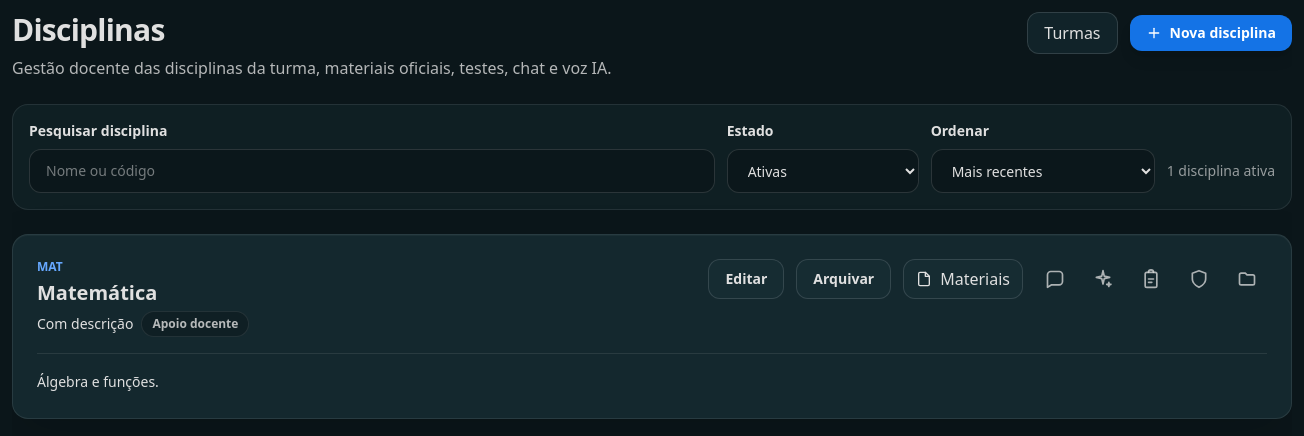
Scenario: TeacherSubjectsPage › separa disciplinas ativas do arquivo
Expected: the heading "Matemática" is shown, [37, 279, 157, 306]
Expected: the text "Matemática histórica" is not shown
Step 1. Select "Arquivo" in the dropdown labelled "Estado" → (823, 171), box [727, 149, 919, 193]
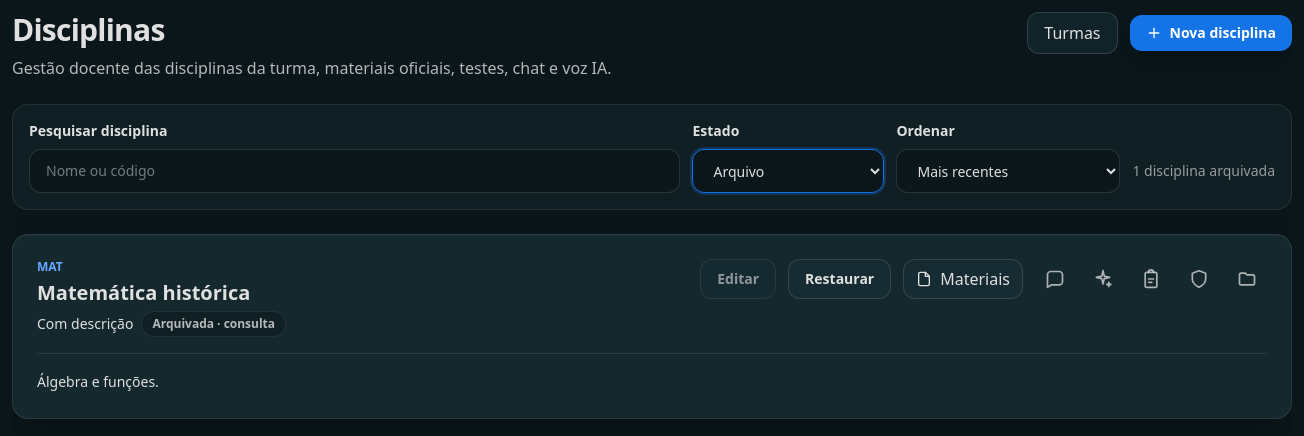
Expected: the heading "Matemática histórica" is shown, [37, 279, 286, 307]
Expected: the text "1 disciplina arquivada" is shown, [1132, 161, 1275, 180]
